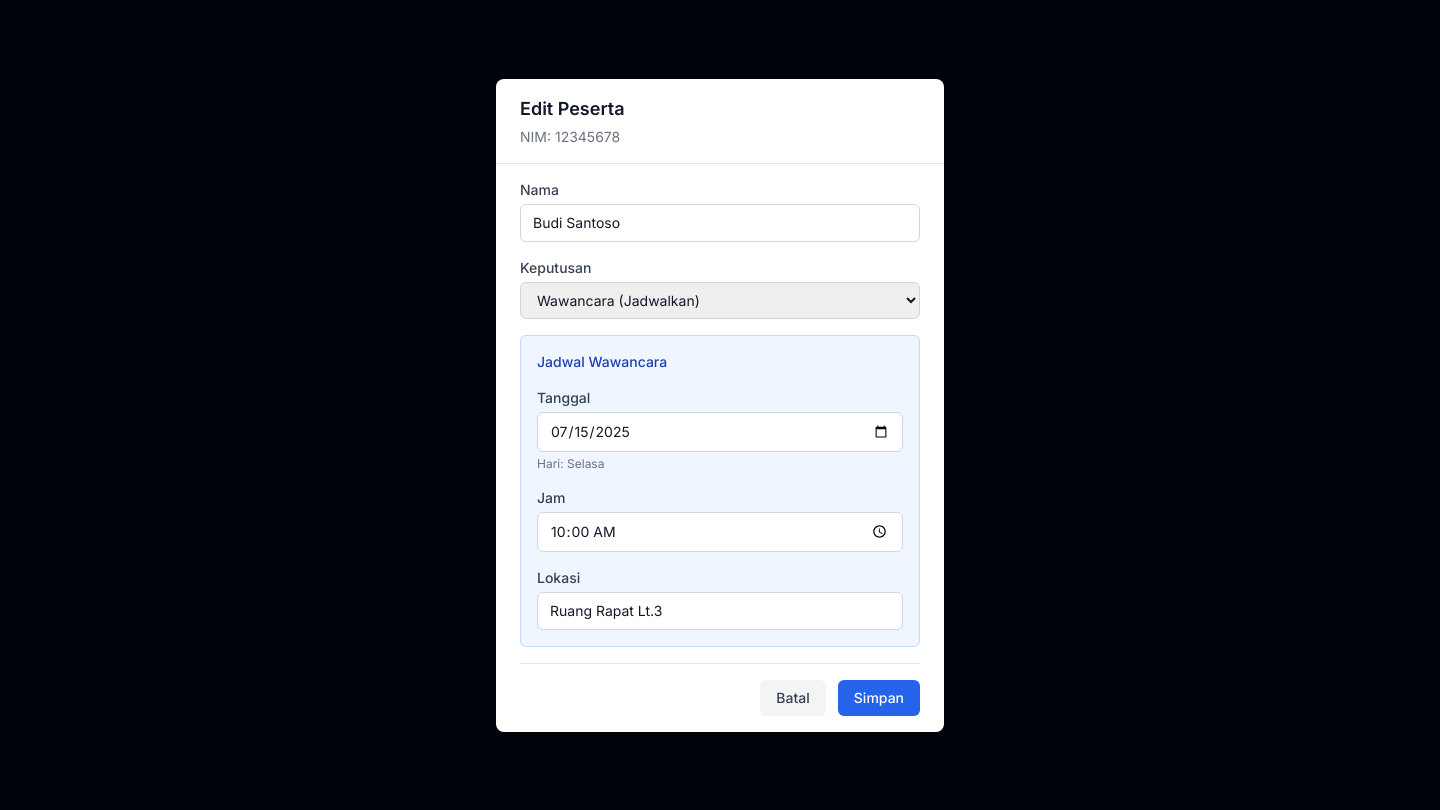
it: EditPesertaModal › shows error message when updatePeserta fails
Click the button "Simpan": (879, 698) [838, 680, 920, 716]
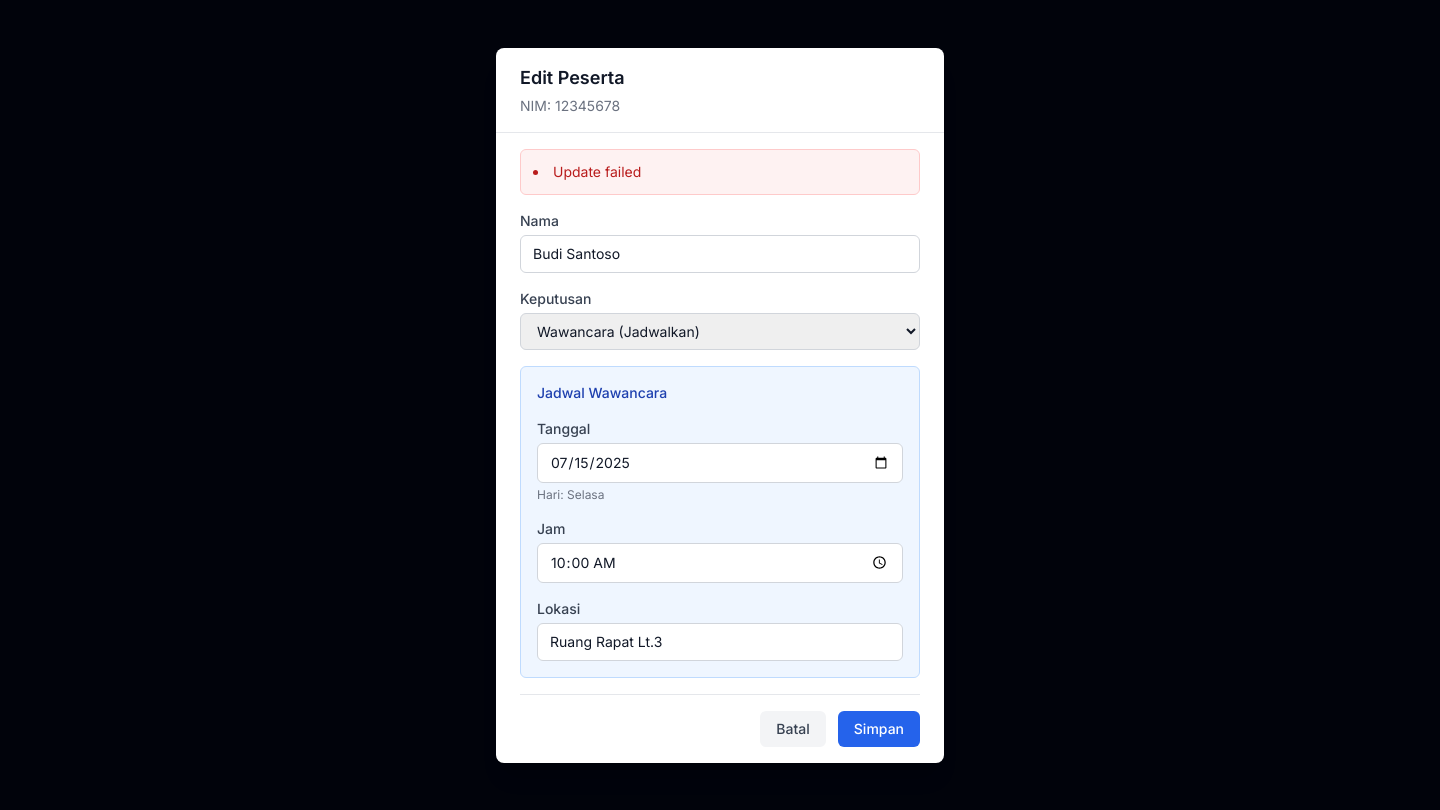
expect the list item "Update failed" is shown: met, box [553, 162, 641, 180]
